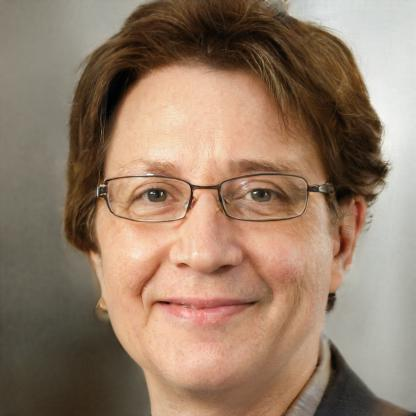glasses: (93, 170, 321, 224)
